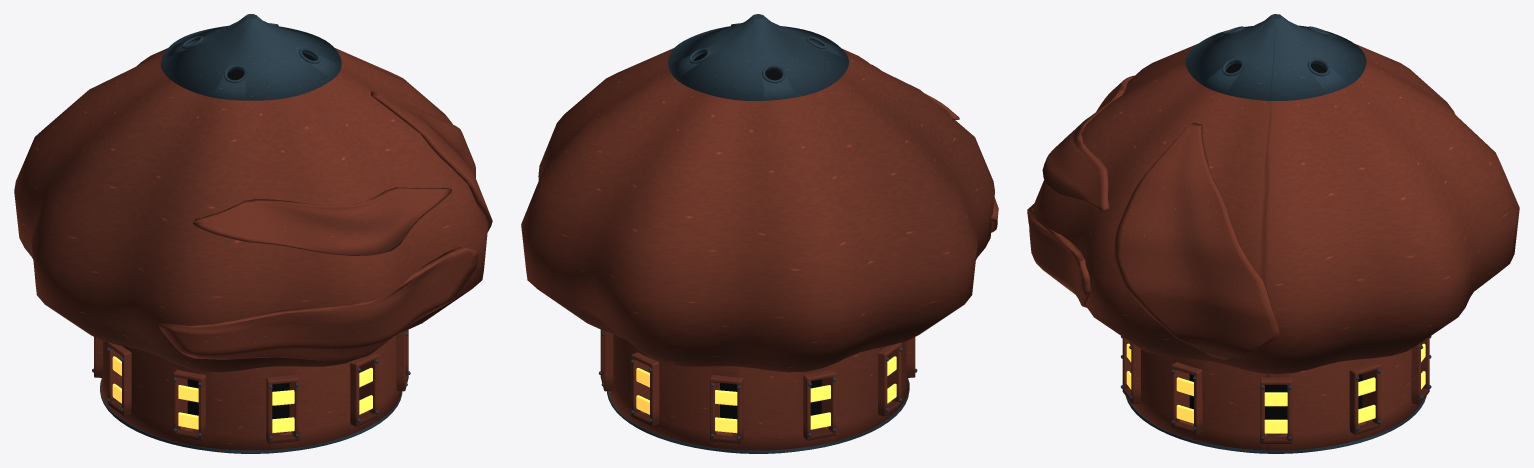
3 views of the same model, side by side, from view 1: azimuth 30°, elevation 25°; view 2: azimuth 150°, elevation 25°; view 3: azimuth 270°, elevation 25° (orthographic).
Visible parts, largest first — view 1: AC06 broad lobed roof, AC06 inhabited lower drum, AC06 lower flowing casting, AC06 blue roof cap, AC06 upper flowing casting, AC06 consolidated window rims, AC06 right flowing casting, AC06 twenty warm panes, AC06 lower drum seam, AC06 consolidated blue fixtures, AC06 consolidated window backs; view 2: AC06 broad lobed roof, AC06 inhabited lower drum, AC06 blue roof cap, AC06 consolidated window rims, AC06 twenty warm panes, AC06 lower drum seam, AC06 consolidated blue fixtures, AC06 consolidated window backs; view 3: AC06 broad lobed roof, AC06 right flowing casting, AC06 inhabited lower drum, AC06 blue roof cap, AC06 consolidated window rims, AC06 upper flowing casting, AC06 lower flowing casting, AC06 twenty warm panes, AC06 lower drum seam, AC06 consolidated blue fixtures, AC06 consolidated window backs.
Part boxes in pixels (bbox=[...]): AC06 broad lobed roof: bbox=[14, 48, 488, 372]; AC06 inhabited lower drum: bbox=[100, 335, 401, 453]; AC06 lower flowing casting: bbox=[158, 247, 478, 361]; AC06 blue roof cap: bbox=[160, 14, 341, 100]; AC06 upper flowing casting: bbox=[193, 187, 452, 255]; AC06 consolidated window rims: bbox=[94, 329, 408, 443]; AC06 right flowing casting: bbox=[370, 91, 492, 231]; AC06 twenty warm panes: bbox=[112, 356, 372, 433]; AC06 lower drum seam: bbox=[100, 380, 402, 453]; AC06 consolidated blue fixtures: bbox=[92, 23, 410, 439]; AC06 consolidated window backs: bbox=[187, 379, 289, 419]; AC06 broad lobed roof: bbox=[521, 48, 994, 372]; AC06 inhabited lower drum: bbox=[608, 334, 908, 453]; AC06 blue roof cap: bbox=[668, 14, 848, 100]; AC06 consolidated window rims: bbox=[600, 329, 915, 443]; AC06 twenty warm panes: bbox=[636, 356, 896, 433]; AC06 lower drum seam: bbox=[607, 378, 909, 453]; AC06 consolidated blue fixtures: bbox=[598, 23, 917, 439]; AC06 consolidated window backs: bbox=[720, 379, 821, 419]; AC06 broad lobed roof: bbox=[1032, 44, 1519, 374]; AC06 right flowing casting: bbox=[1113, 122, 1280, 359]; AC06 inhabited lower drum: bbox=[1130, 349, 1422, 453]; AC06 blue roof cap: bbox=[1185, 14, 1366, 100]; AC06 consolidated window rims: bbox=[1122, 338, 1429, 443]; AC06 upper flowing casting: bbox=[1042, 75, 1134, 210]; AC06 lower flowing casting: bbox=[1027, 204, 1090, 307]; AC06 twenty warm panes: bbox=[1126, 343, 1425, 433]; AC06 lower drum seam: bbox=[1125, 396, 1426, 453]; AC06 consolidated blue fixtures: bbox=[1121, 26, 1431, 439]; AC06 consolidated window backs: bbox=[1189, 374, 1362, 419].
Bounding box in the file's own units: 2.12 × 1.81 × 2.12.
Materials: 4 (3 with a texture image).
